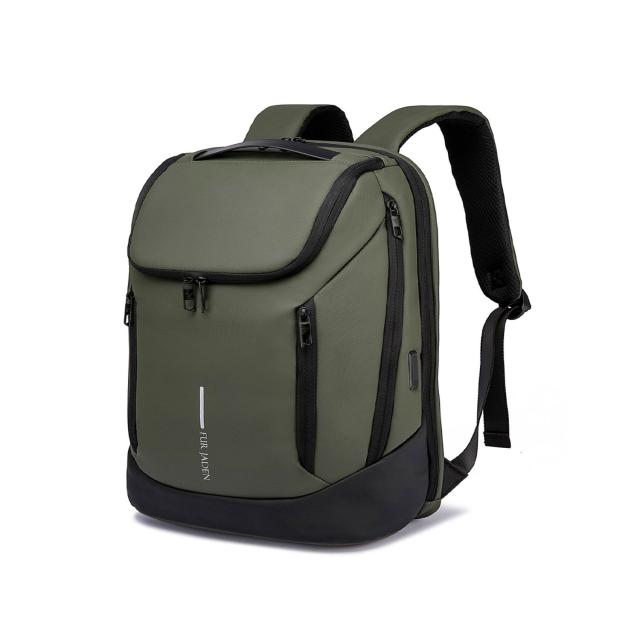backpack: (124, 103, 531, 548)
